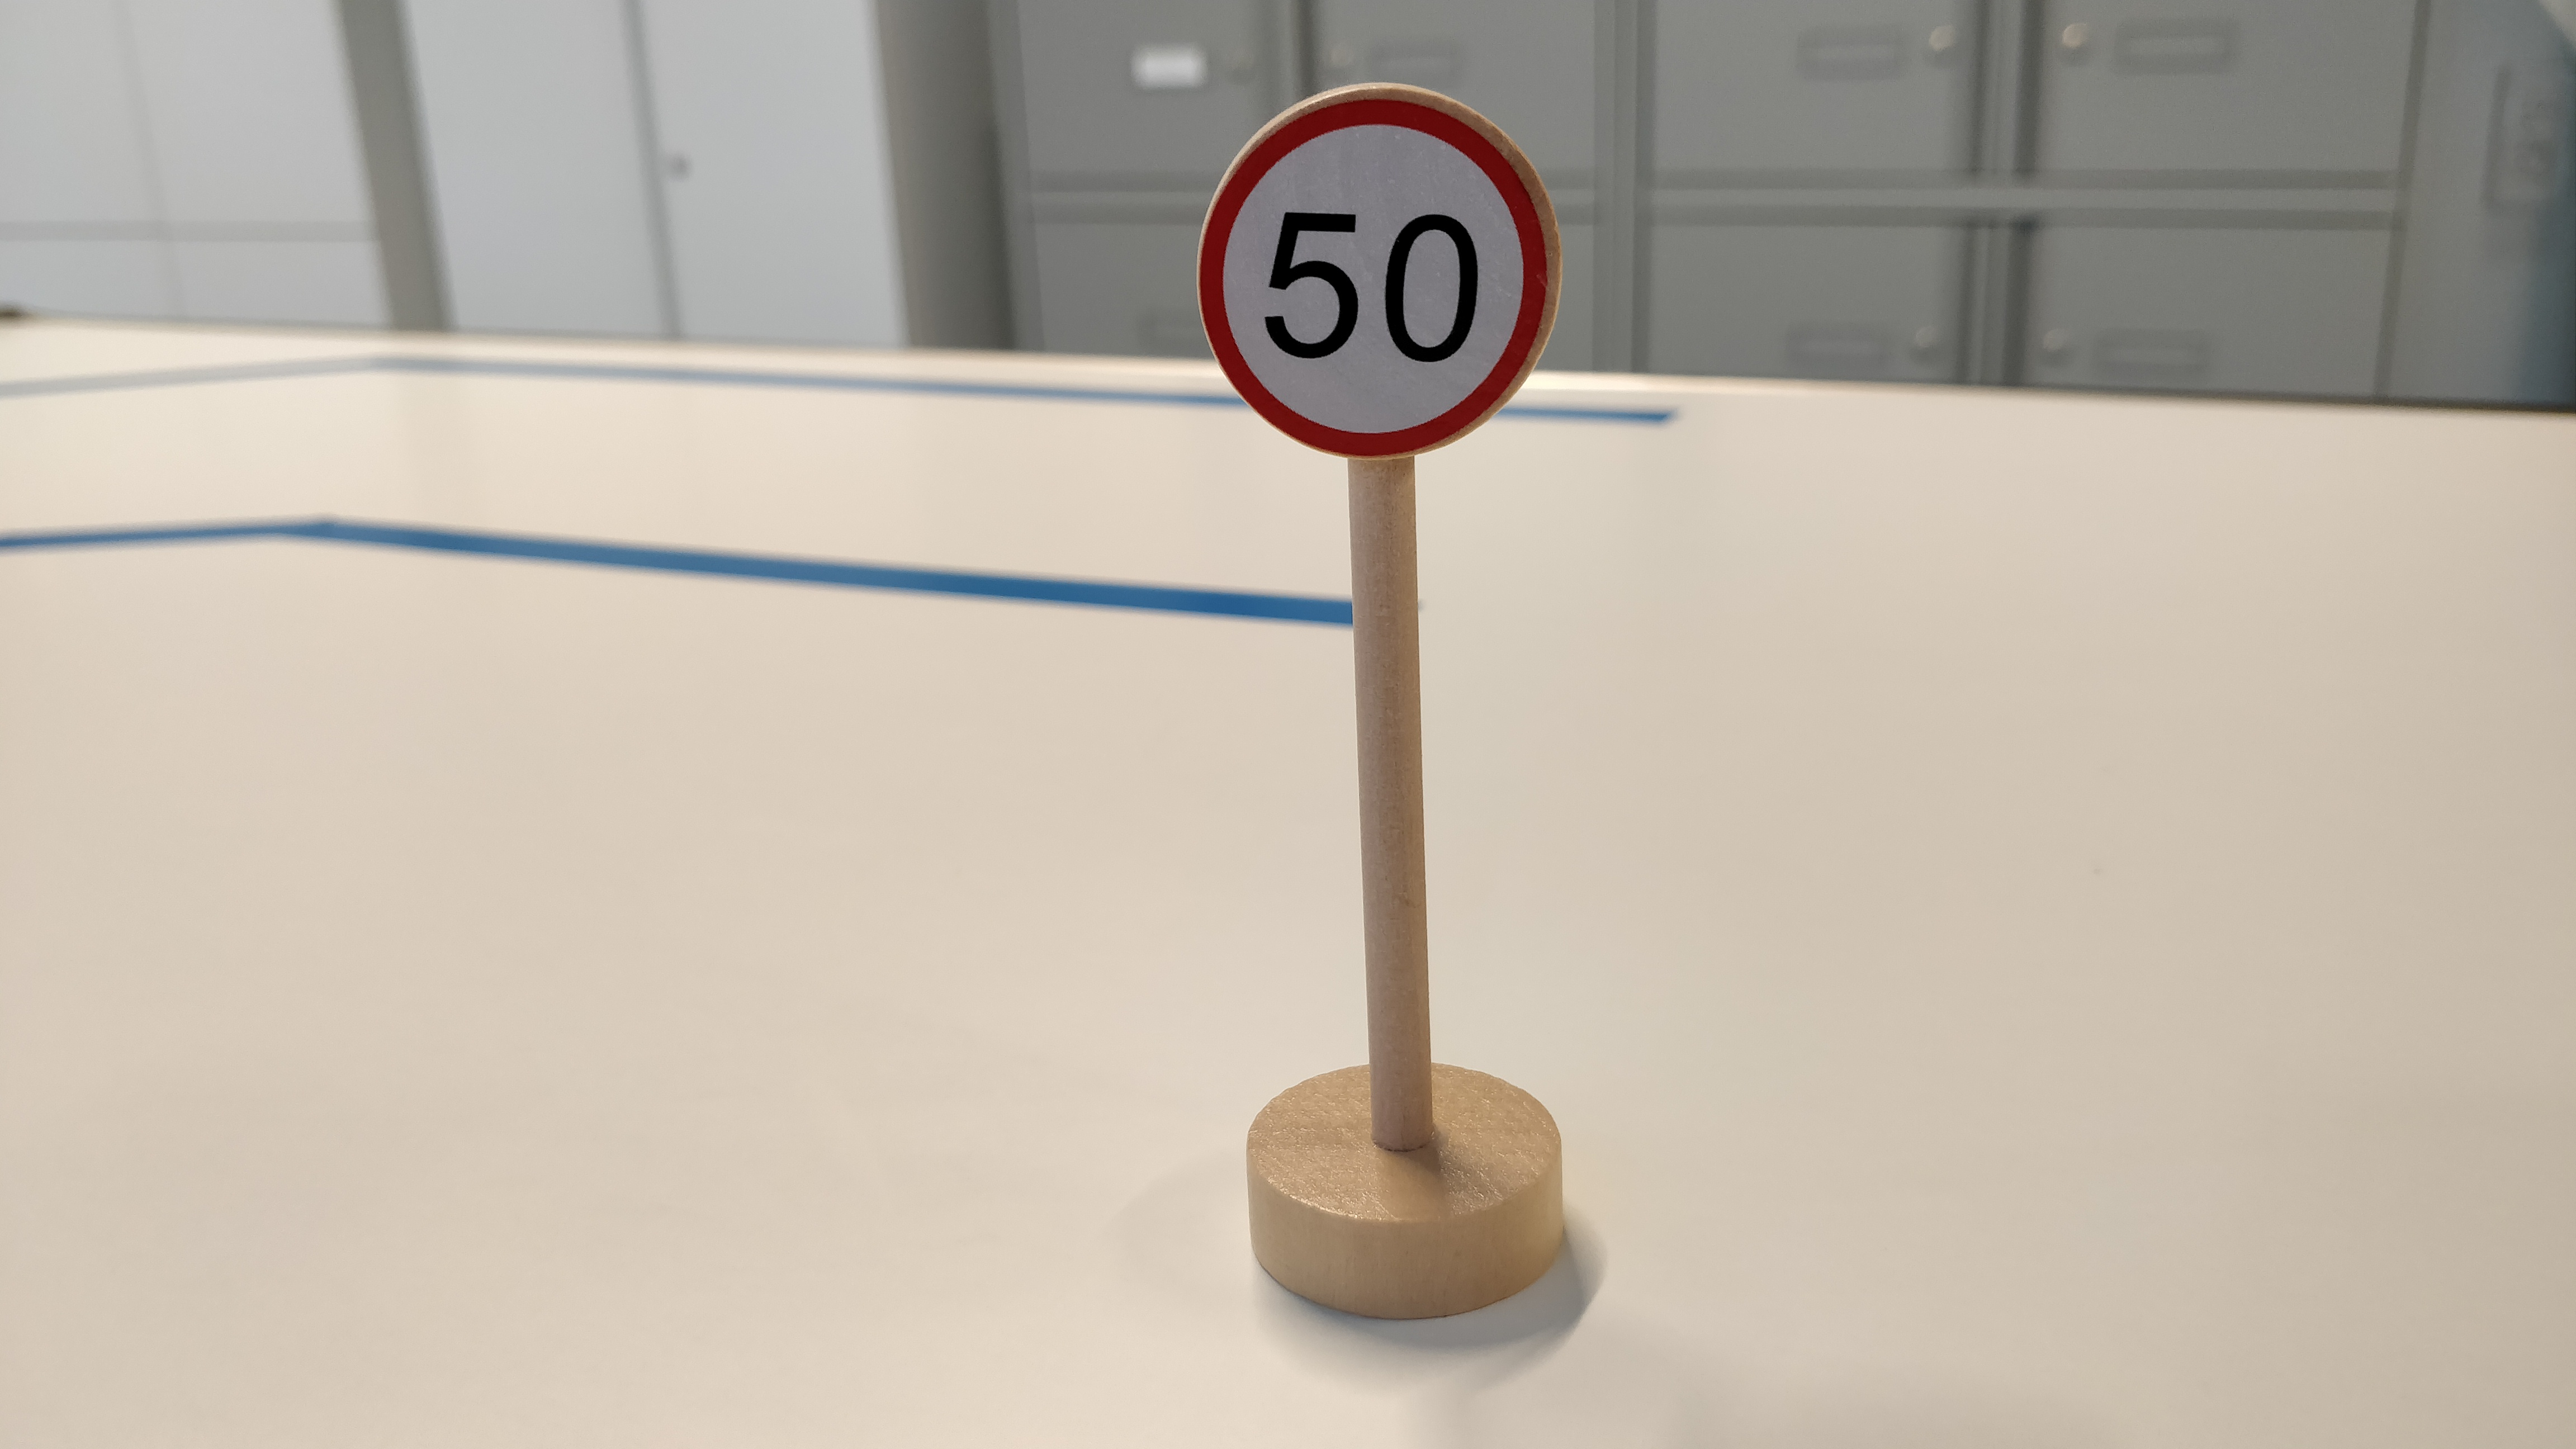Speed Limit 50: (1186, 74, 1570, 460)
